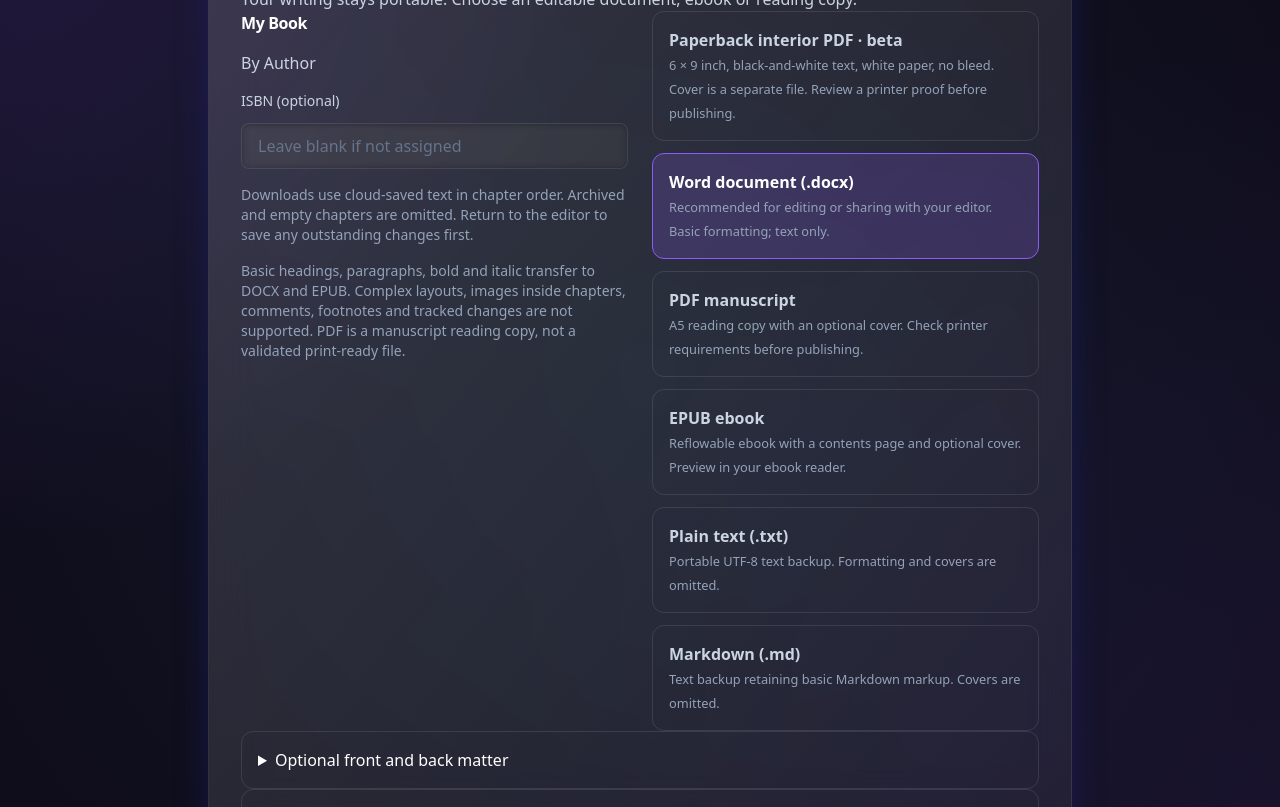
Scenario: rejects empty chapters instead of downloading an empty manuscript
This screenshot has width=1280, height=807.
Click the text "PDF manuscript": (732, 300) 669,289 -> 796,311
(page scrolled)
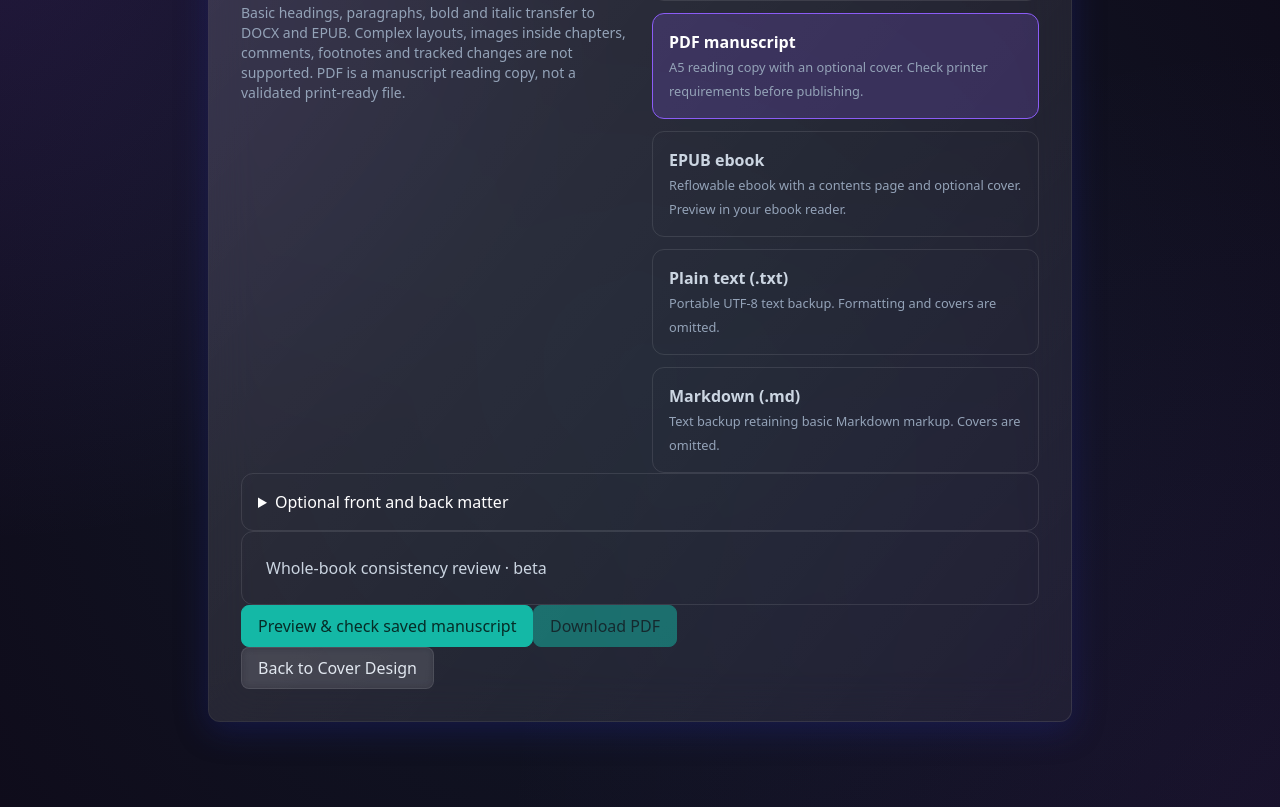
Click the button "Preview & check saved manuscript": (387, 626) 241,605 -> 533,647
(page scrolled)
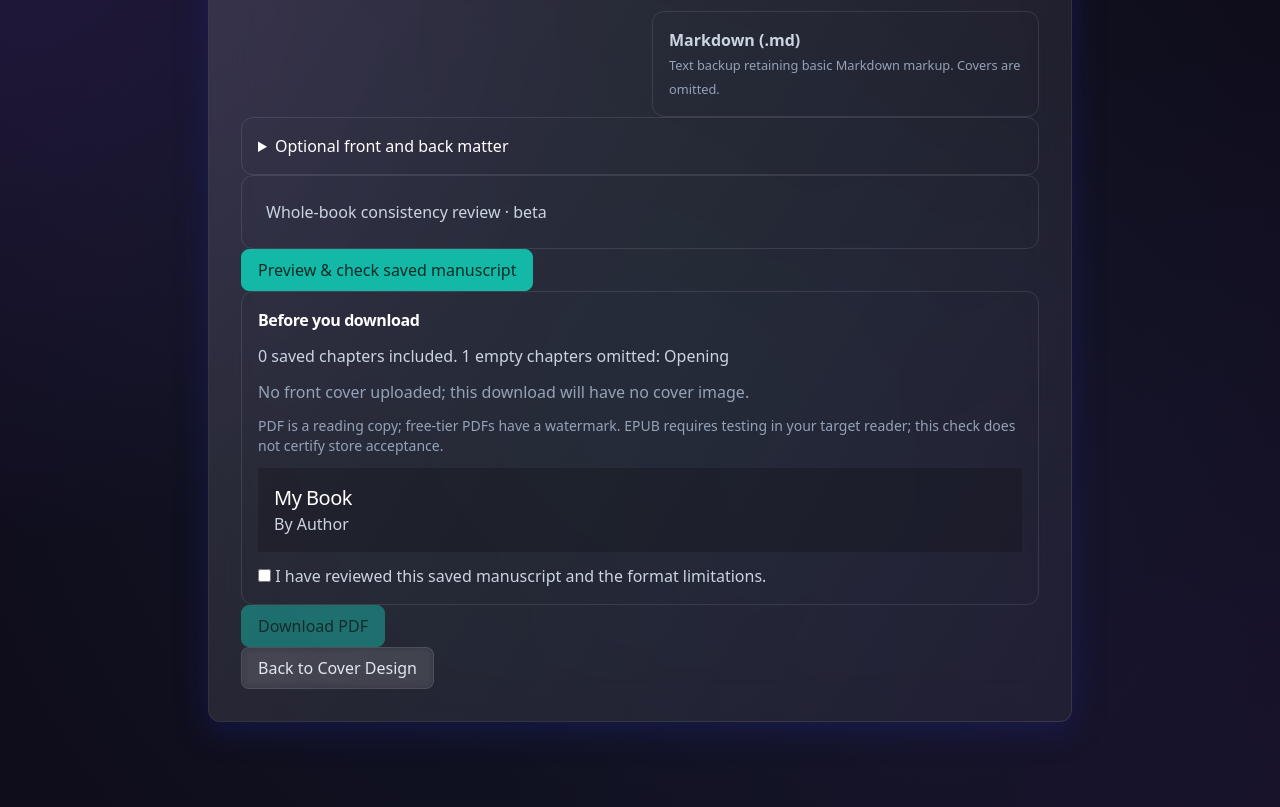
Check: the button "Download PDF" is disabled, box 241,605 -> 385,647
Check: the text "0 saved chapters included. 1 empty chapters omitted: Opening" is shown, box 258,345 -> 729,367
